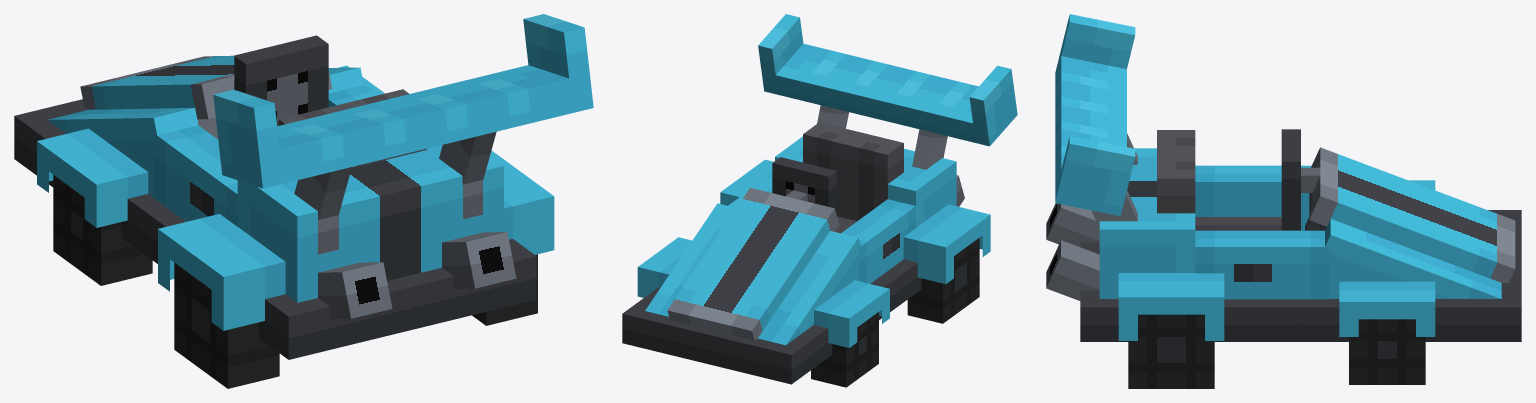
The model's file is Light Blue Kart.glb.
3 views of the same model, side by side, from view 1: azimuth 30°, elevation 25°; view 2: azimuth 150°, elevation 25°; view 3: azimuth 270°, elevation 25° (orthographic). The views are drawn at different scales.
Parts seen in each view (by area): view 1: BodyMesh, WheelMesh (×3), SteeringWheelMesh; view 2: BodyMesh, WheelMesh (×2), SteeringWheelMesh; view 3: BodyMesh, WheelMesh (×2), SteeringWheelMesh.
Boxes of the visible parts, left/top/right/bottom form: BodyMesh: left=14, top=14, right=593, bottom=359; WheelMesh (×3): left=53, top=175, right=537, bottom=388; SteeringWheelMesh: left=234, top=35, right=328, bottom=126; BodyMesh: left=622, top=14, right=1017, bottom=384; WheelMesh (×2): left=811, top=238, right=979, bottom=387; SteeringWheelMesh: left=772, top=157, right=836, bottom=230; BodyMesh: left=1046, top=14, right=1521, bottom=341; WheelMesh (×2): left=1128, top=314, right=1425, bottom=388; SteeringWheelMesh: left=1281, top=129, right=1320, bottom=230.
Bounding box in the file's own units: 2 × 1.79 × 3.1.
Materials: 1 (1 with a texture image).
